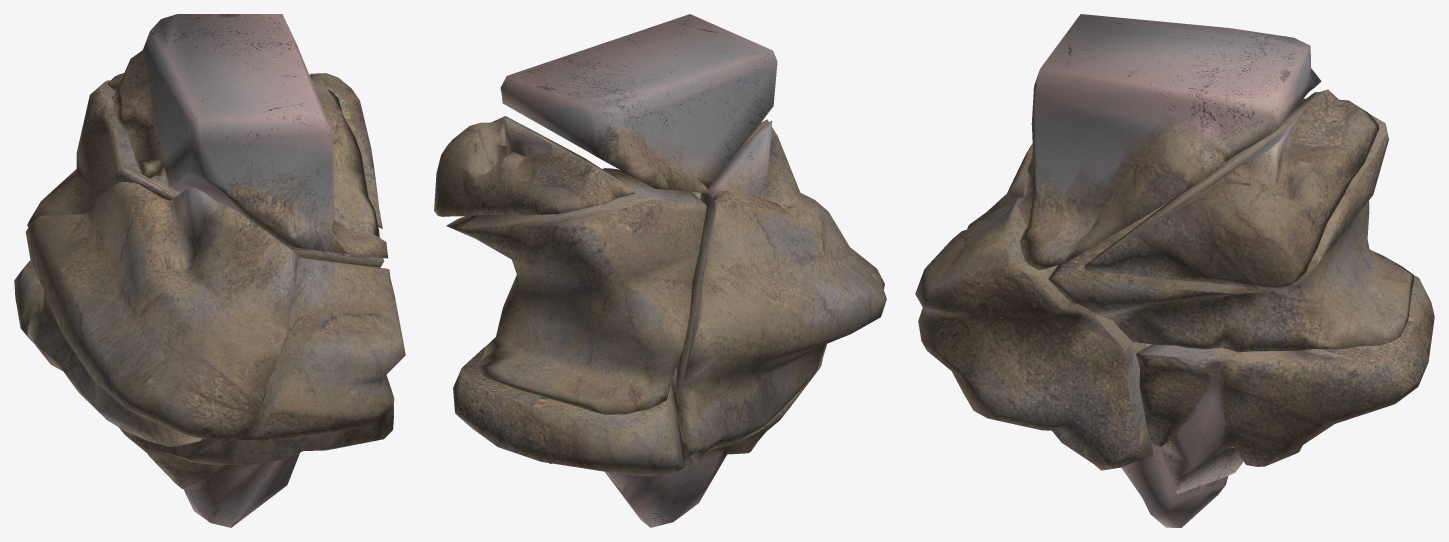
File: SM_Mineral_5_Pieces.fbx
3 renders of one model, left to right at view 1: azimuth 30°, elevation 25°; view 2: azimuth 150°, elevation 25°; view 3: azimuth 270°, elevation 25°, orthographic. The views are drawn at different scales.
Visible parts, largest first — view 1: SM_Mineral_5_Piece_1, SM_Mineral_5_Piece_5, SM_Mineral_5_Piece_2, SM_Mineral_5_Piece_3, SM_Mineral_5_Piece_6, SM_Mineral_5_Piece_4; view 2: SM_Mineral_5_Piece_1, SM_Mineral_5_Piece_3, SM_Mineral_5_Piece_5, SM_Mineral_5_Piece_4, SM_Mineral_5_Piece_6, SM_Mineral_5_Piece_2; view 3: SM_Mineral_5_Piece_5, SM_Mineral_5_Piece_2, SM_Mineral_5_Piece_4, SM_Mineral_5_Piece_3, SM_Mineral_5_Piece_6, SM_Mineral_5_Piece_1.
Part boxes in pixels (x1,y1,x2,y2): SM_Mineral_5_Piece_1: (25, 181, 298, 446); SM_Mineral_5_Piece_5: (113, 14, 387, 258); SM_Mineral_5_Piece_2: (119, 257, 405, 527); SM_Mineral_5_Piece_3: (27, 80, 384, 267); SM_Mineral_5_Piece_6: (107, 73, 382, 228); SM_Mineral_5_Piece_4: (14, 260, 43, 343); SM_Mineral_5_Piece_1: (676, 119, 886, 462); SM_Mineral_5_Piece_3: (446, 168, 706, 414); SM_Mineral_5_Piece_5: (500, 14, 777, 193); SM_Mineral_5_Piece_4: (453, 347, 684, 490); SM_Mineral_5_Piece_6: (434, 116, 634, 216); SM_Mineral_5_Piece_2: (605, 192, 822, 527); SM_Mineral_5_Piece_5: (1018, 14, 1320, 270); SM_Mineral_5_Piece_2: (915, 197, 1228, 527); SM_Mineral_5_Piece_4: (1136, 275, 1434, 493); SM_Mineral_5_Piece_3: (1048, 98, 1413, 352); SM_Mineral_5_Piece_6: (1084, 89, 1379, 289); SM_Mineral_5_Piece_1: (967, 143, 1032, 229).
Bounding box in the file's own units: 0.7281 × 0.9277 × 0.9545.
